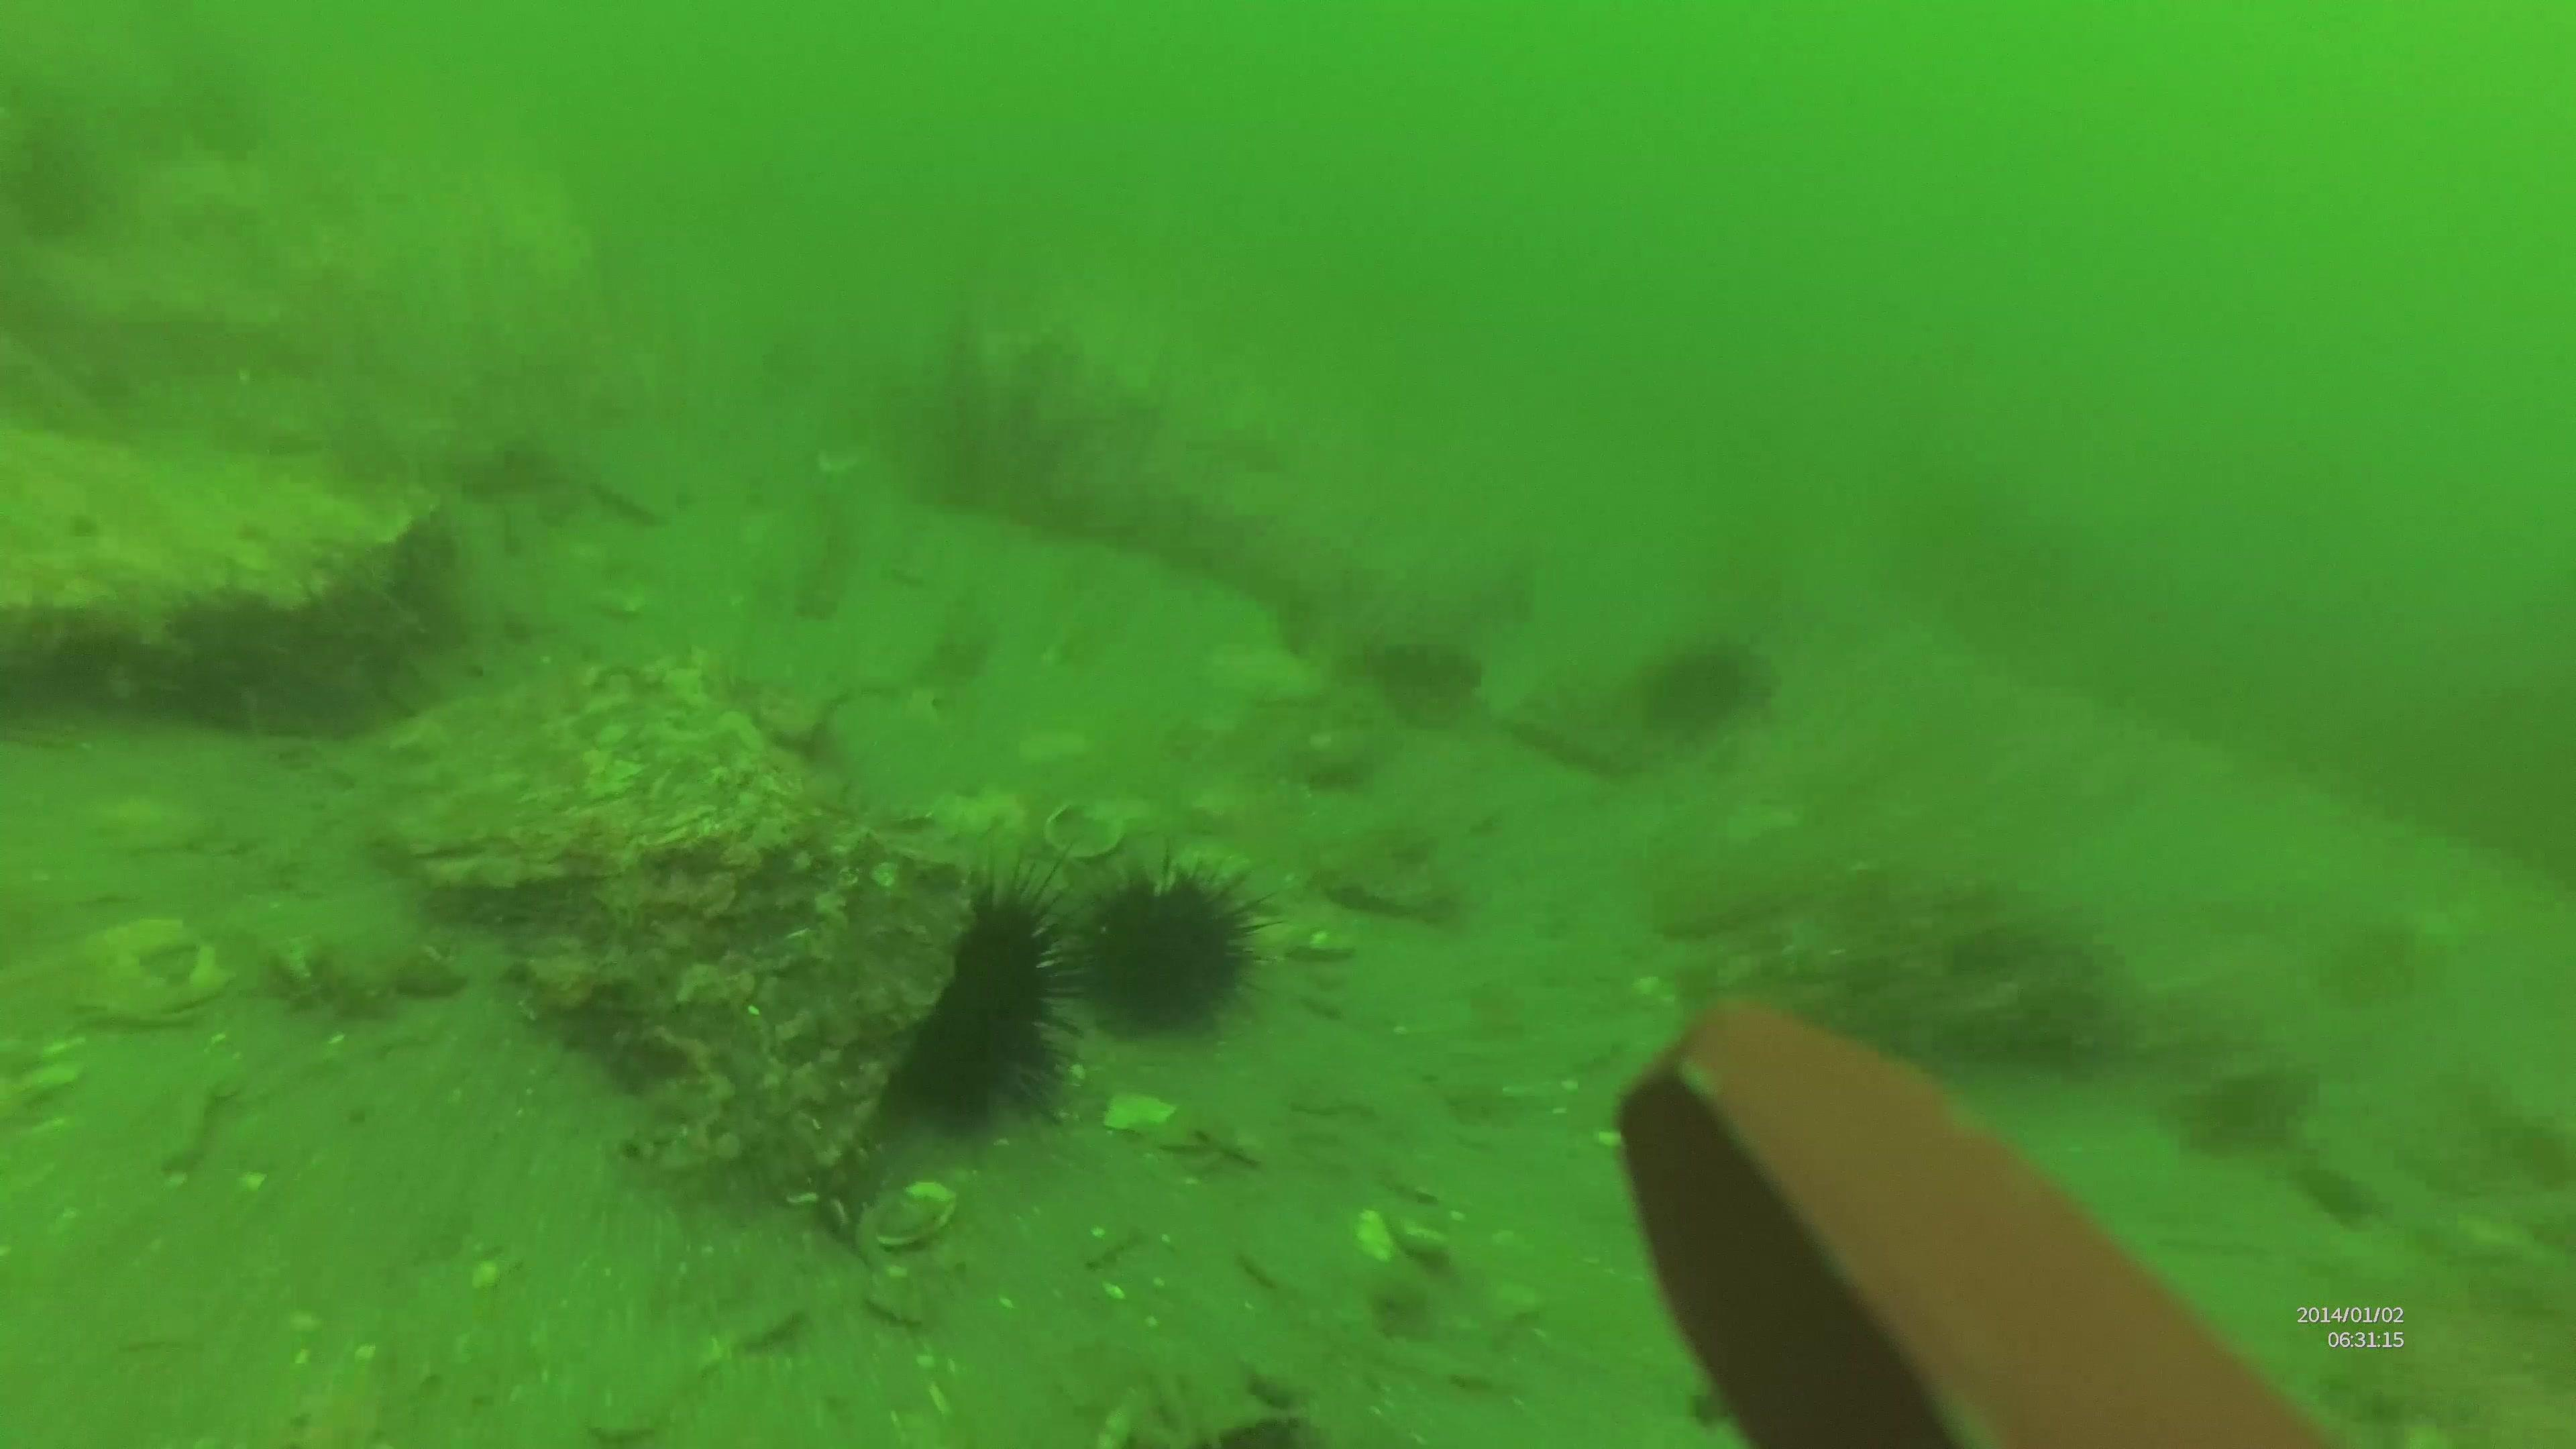echinus: (883, 878, 1093, 1138), (1076, 858, 1258, 1037)
scallop: (879, 1182, 961, 1253), (1104, 1093, 1189, 1143), (734, 1297, 801, 1355), (865, 1283, 932, 1336)
